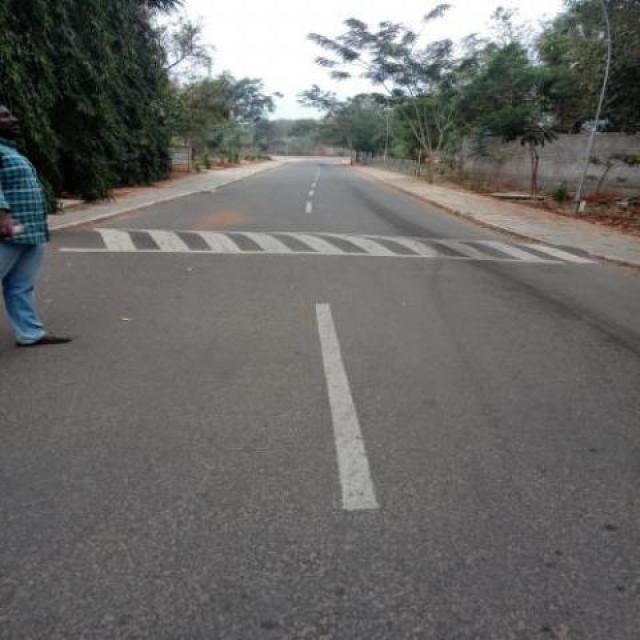Speed Bump: (41, 227, 594, 262)
